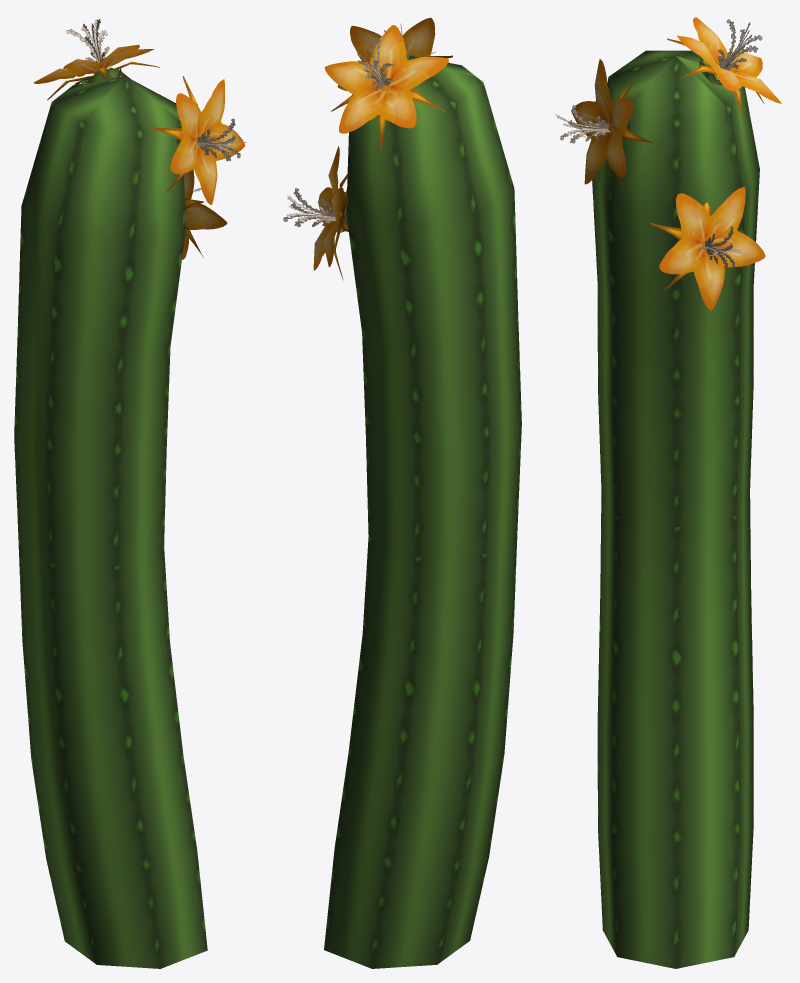
File: Ctn_cactus_01_v05_flowers.FBX
3 renders of one model, left to right at view 1: azimuth 30°, elevation 25°; view 2: azimuth 150°, elevation 25°; view 3: azimuth 270°, elevation 25°, orthographic. The views are drawn at different scales.
Parts seen in each view (by area): view 1: Ctn_cactus_01_v05_flowers; view 2: Ctn_cactus_01_v05_flowers; view 3: Ctn_cactus_01_v05_flowers.
Boxes of the visible parts, x1=… form: Ctn_cactus_01_v05_flowers: x1=14, y1=19, x2=246, y2=968; Ctn_cactus_01_v05_flowers: x1=283, y1=17, x2=521, y2=968; Ctn_cactus_01_v05_flowers: x1=555, y1=17, x2=781, y2=968.
Bounding box in the file's own units: 19.98 × 87.32 × 20.34.
